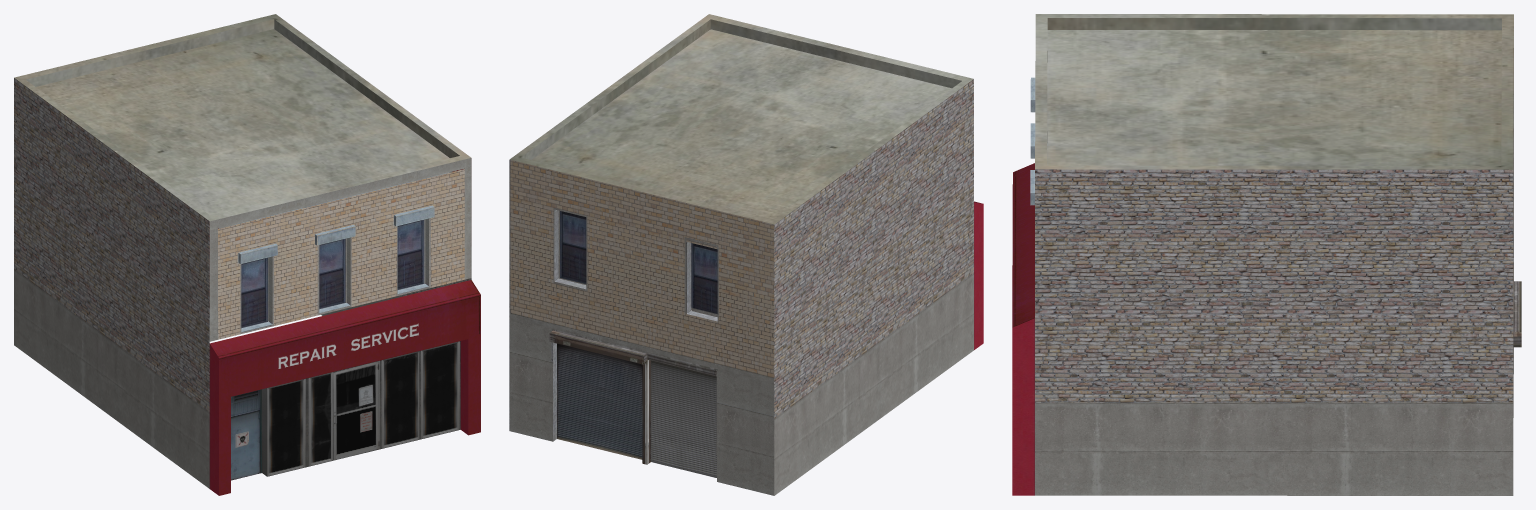
3 renders of one model, left to right at view 1: azimuth 30°, elevation 25°; view 2: azimuth 150°, elevation 25°; view 3: azimuth 270°, elevation 25°, orthographic. The views are drawn at different scales.
Parts seen in each view (by area): view 1: B002; view 2: B002; view 3: B002.
Boxes of the visible parts, x1,y1,x2,y2 form: B002: [14, 14, 480, 495]; B002: [509, 14, 983, 495]; B002: [1012, 14, 1521, 495].
Size of the model in its own units: 944 by 922 by 1305.
